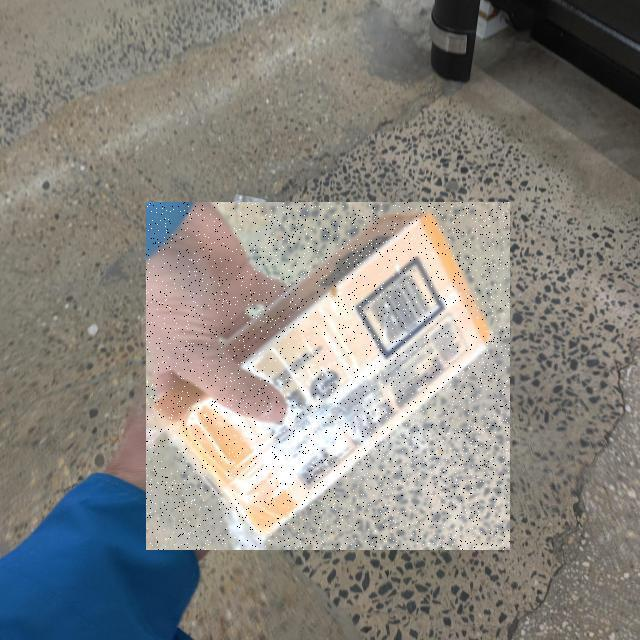Meat: (146, 203, 510, 551)
